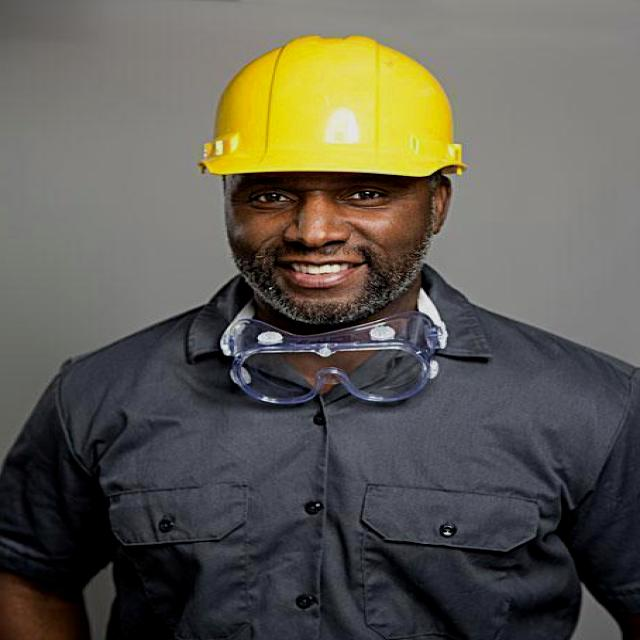face_nomask: (226, 165, 460, 314)
glasses: (217, 313, 447, 413)
head_helmet: (192, 36, 476, 177)
person: (1, 31, 638, 637)
